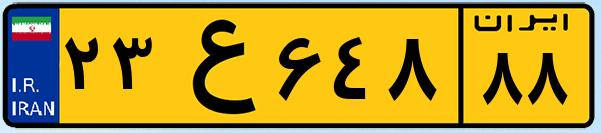2: (57, 26, 110, 100)
3: (110, 28, 158, 98)
4: (330, 28, 385, 110)
6: (270, 28, 330, 110)
8: (385, 28, 445, 110), (475, 38, 525, 113), (525, 38, 570, 115)
ع: (158, 12, 270, 120)
